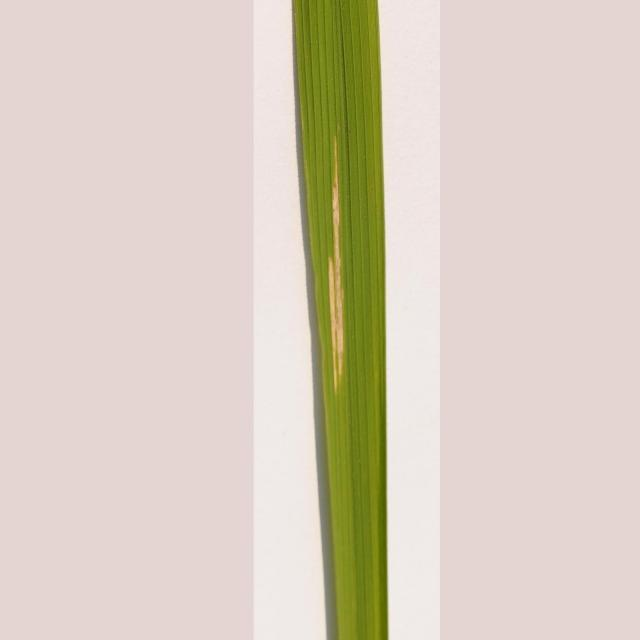leaf blight: (303, 134, 375, 402)
